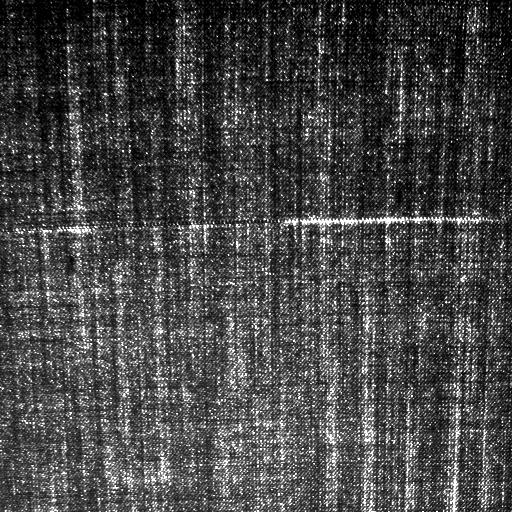fabric_broken_pick: (3, 217, 491, 233)
